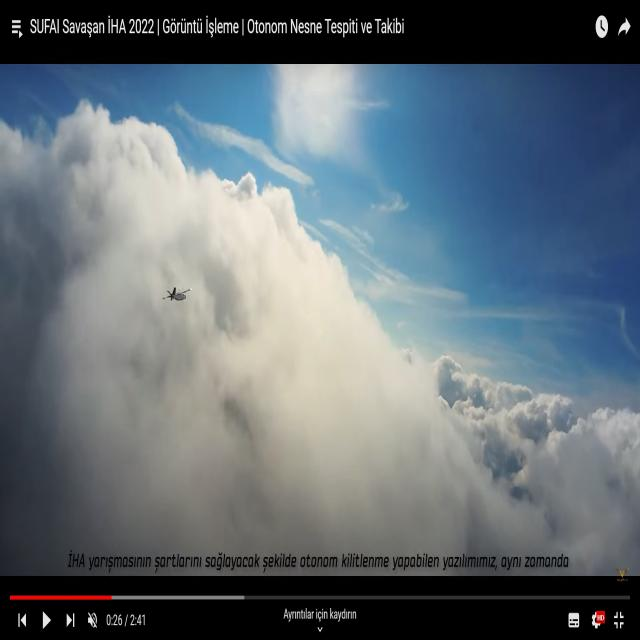iha: (160, 283, 192, 302)
